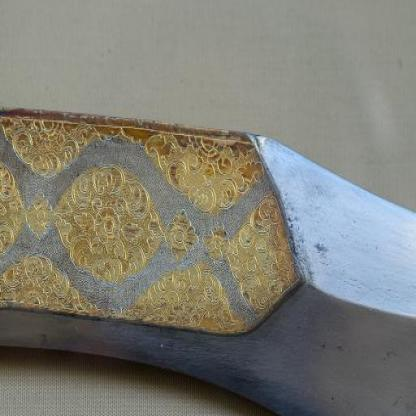knife: (0, 52, 415, 415)
